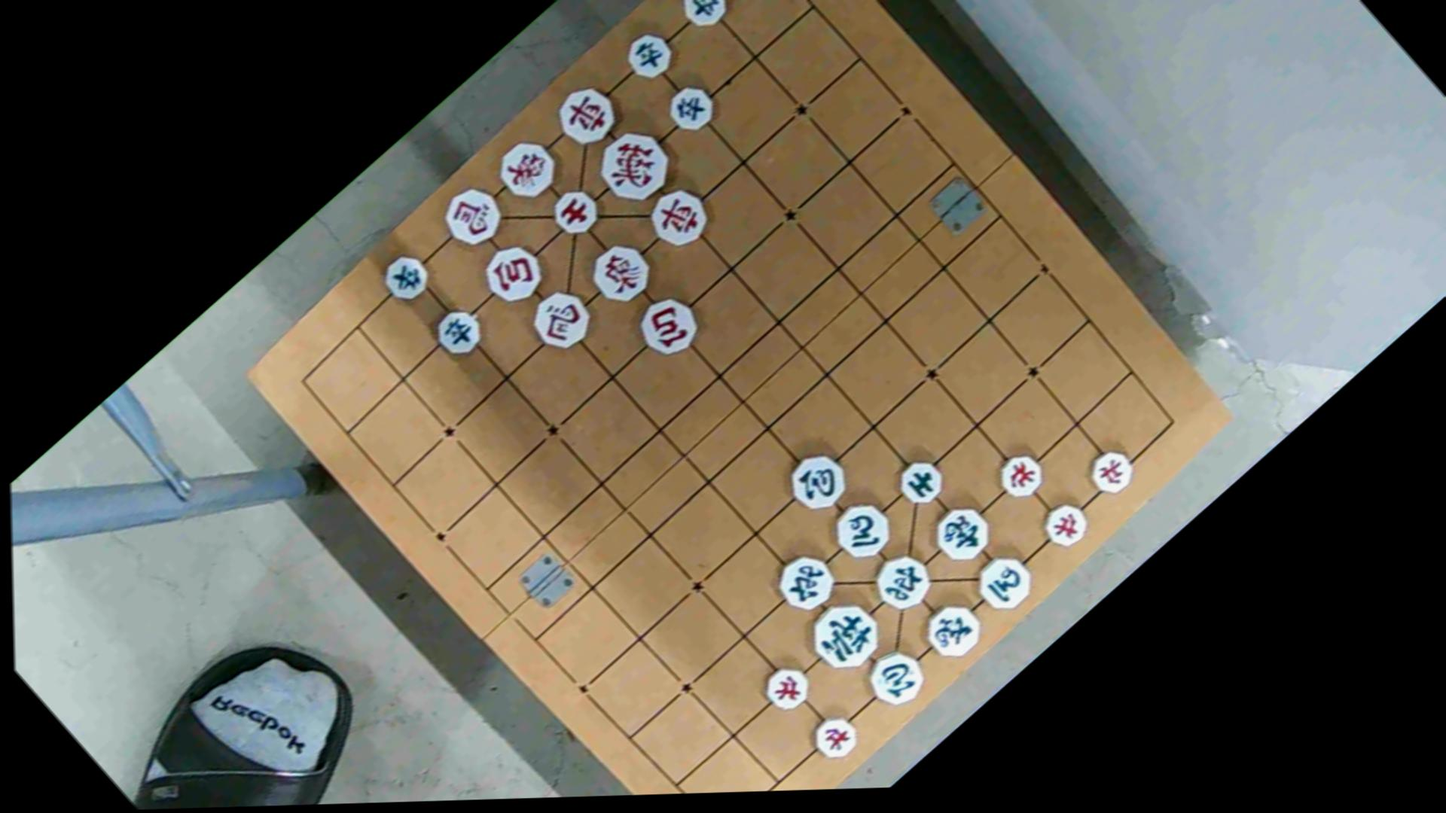cha_green: (865, 543, 941, 619), (770, 546, 844, 620)
cha_red: (547, 73, 627, 153), (639, 175, 719, 254)
jol_green: (660, 77, 725, 141), (617, 24, 682, 87), (376, 243, 440, 306), (429, 300, 492, 361), (674, 0, 737, 33)
jol_red: (988, 441, 1054, 507), (1034, 492, 1097, 554), (758, 658, 818, 717), (1083, 443, 1141, 501), (807, 709, 865, 766)
ma_green: (968, 542, 1044, 617), (826, 492, 901, 566)
ma_red: (523, 278, 602, 355), (435, 176, 512, 253)
po_green: (776, 440, 858, 522), (859, 638, 932, 711)
po_red: (630, 287, 706, 362), (478, 234, 554, 309)
sa_green: (889, 447, 954, 512)
sa_red: (546, 180, 608, 242)
sang_green: (915, 592, 992, 668), (925, 496, 1000, 571)
sang_red: (581, 232, 662, 312), (489, 130, 569, 209)
wang_green: (801, 592, 892, 684)
wang_red: (590, 117, 685, 212)
